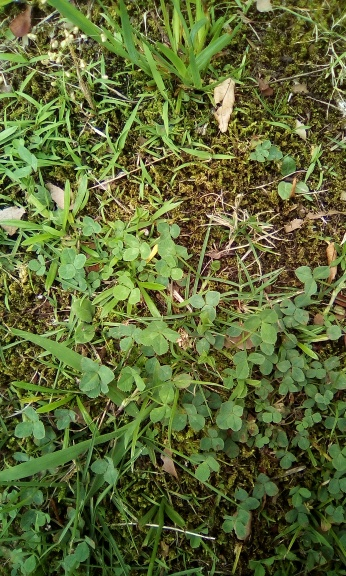4leaf: (138, 320, 181, 356), (216, 401, 244, 432)
